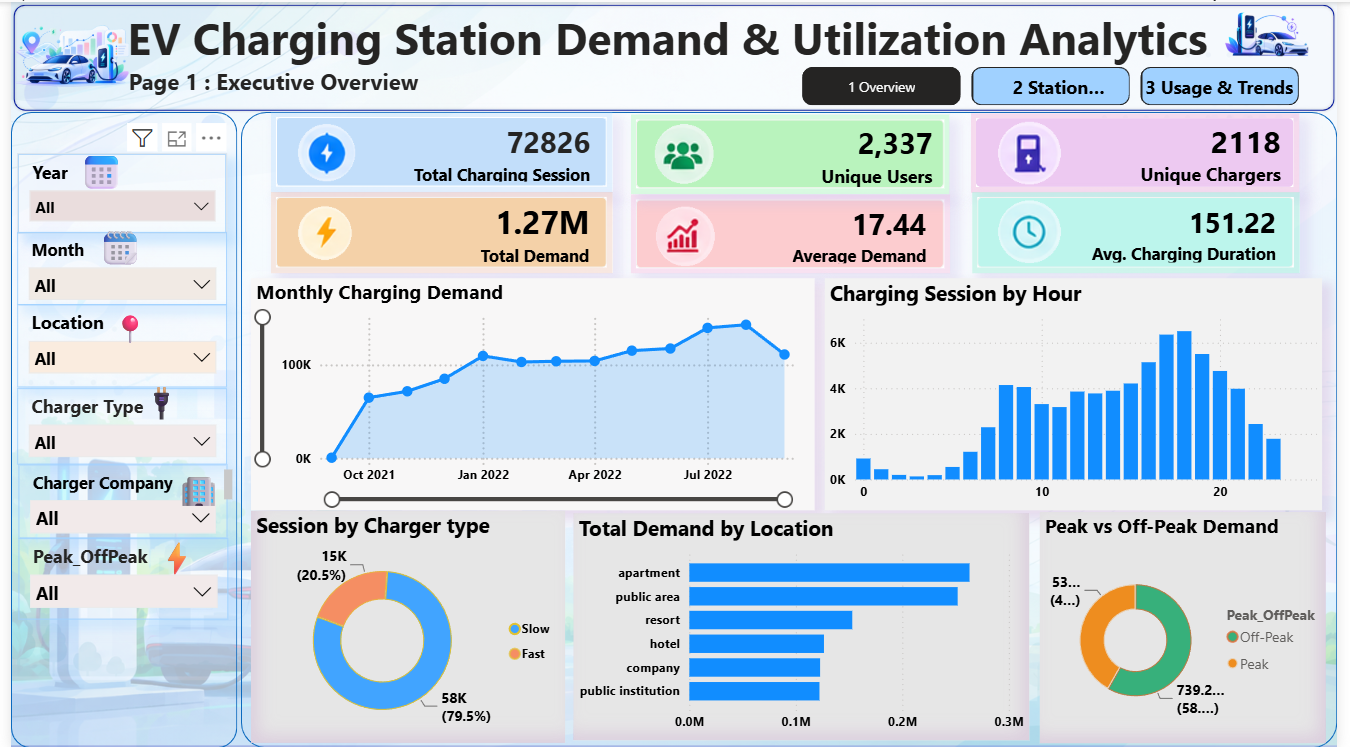

What the dashboard file says about the page in this screenshot:
{"tool":"powerbi","page":{"name":"1 Overview","canvas":[1280,720],"ordinal":0},"visuals":[{"type":"image","box":[0,0,1280,720.2],"z":0},{"type":"shape","box":[222,106.2,1058,614.1],"z":1000},{"type":"shape","box":[0,106.2,218.4,614.1],"z":2000},{"type":"shape","box":[0,0,1280,107.5],"z":3000},{"type":"textbox","box":[107,0,1104.6,91.9],"z":4000},{"type":"textbox","box":[108.4,56.3,308.7,50.8],"z":5000},{"type":"cardVisual","fields":{"Data":["EVcharge.Total Session"]},"box":[250.9,106.2,329.4,77.2],"z":6000},{"type":"cardVisual","fields":{"Data":["EVcharge.Unique Chargers"]},"box":[926.2,107,317,76.8],"z":7000},{"type":"cardVisual","fields":{"Data":["EVcharge.Total Demand"]},"box":[250.9,183.4,329.4,78.4],"z":8000},{"type":"cardVisual","fields":{"Data":["EVcharge.Average Demand"]},"box":[598.3,185.2,307.4,76.8],"z":9000},{"type":"cardVisual","fields":{"Data":["EVcharge.Average Duration"]},"box":[927.6,183.9,315.6,78.2],"z":10000},{"type":"cardVisual","fields":{"Data":["EVcharge.Unique Users"]},"box":[598.3,108.4,307.4,76.8],"z":11000},{"type":"lineChart","title":"Monthly Charging Demand","fields":{"Y":["EVcharge.Total Demand"],"Category":["EVcharge.Start_datetime.Variation.Date Hierarchy.Year","EVcharge.Start_datetime.Variation.Date Hierarchy.Month"]},"box":[231.6,266.6,544.1,224.4],"z":12000},{"type":"clusteredColumnChart","title":"Charging Session by Hour","fields":{"Y":["EVcharge.Total Session"],"Category":["EVcharge.Start_Hour"]},"box":[785.4,266.6,480.2,224.4],"z":13000},{"type":"donutChart","title":"Session by Charger type","fields":{"Y":["EVcharge.Total Session"],"Category":["EVcharge.Charger_type_label"]},"box":[231.6,491,302.8,224.4],"z":14000},{"type":"clusteredBarChart","fields":{"Y":["EVcharge.Total Demand"],"Category":["EVcharge.Location"]},"box":[542.9,495.8,440.4,219.6],"z":15000},{"type":"donutChart","title":"Peak vs Off-Peak Demand","fields":{"Category":["EVcharge.Peak_OffPeak"],"Y":["EVcharge.Total Demand"]},"box":[992.9,492.2,276.3,223.2],"z":16000},{"type":"slicer","fields":{"Values":["EVcharge.Year"]},"box":[6.2,146.2,202.5,77.5],"z":17000},{"type":"slicer","fields":{"Values":["EVcharge.Month"]},"box":[6.2,222.5,202.5,70],"z":18000},{"type":"slicer","fields":{"Values":["EVcharge.Location"]},"box":[6.2,292.5,202.5,80],"z":19000},{"type":"slicer","fields":{"Values":["EVcharge.Charger_company_label"]},"box":[7.5,446.2,201.2,71.2],"z":20000},{"type":"slicer","fields":{"Values":["EVcharge.Charger_type_label"]},"box":[6.2,372.5,202.5,73.8],"z":21000},{"type":"slicer","fields":{"Values":["EVcharge.Peak_OffPeak"]},"box":[7.5,517.5,202.5,78.8],"z":22000},{"type":"pageNavigator","box":[763.7,62.7,480.2,37.4],"z":23000},{"type":"textbox","box":[133.9,509.1,39.8,56.7],"z":24000},{"type":"textbox","box":[154.4,446.4,63.9,44.6],"z":25000},{"type":"textbox","box":[118.8,360,55,56.2],"z":26000},{"type":"textbox","box":[91.2,292.5,42.5,50],"z":27000},{"type":"textbox","box":[78.8,210,55,56.2],"z":28000},{"type":"textbox","box":[60,136.2,63.8,58.8],"z":29000},{"type":"image","box":[1157,0,112.2,62.7],"z":30000},{"type":"image","box":[270.2,115.8,68.8,59.1],"z":31000},{"type":"image","box":[615.3,115.8,68.8,61.5],"z":32000},{"type":"image","box":[941,113.4,84.5,65.1],"z":33000},{"type":"image","box":[266.6,195.4,72.4,55.5],"z":34000},{"type":"image","box":[616.5,195.4,68.8,61.5],"z":35000},{"type":"image","box":[950.7,187,65.1,70],"z":36000},{"type":"image","box":[0,9.7,118.2,82],"z":37000}]}

Visuals, with their boxes in screenshot pixels (x1, y1, x2, y2), scaled from the page's 1280x720 canvas onto the 1350x747 screenshot:
image: 0:0:1349:746
shape: 234:110:1349:746
shape: 0:110:230:746
shape: 0:0:1349:112
textbox: 113:0:1278:95
textbox: 114:58:440:111
cardVisual - EVcharge.Total Session: 265:110:612:190
cardVisual - EVcharge.Unique Chargers: 977:111:1311:191
cardVisual - EVcharge.Total Demand: 265:190:612:272
cardVisual - EVcharge.Average Demand: 631:192:955:272
cardVisual - EVcharge.Average Duration: 978:191:1311:272
cardVisual - EVcharge.Unique Users: 631:112:955:192
"Monthly Charging Demand" lineChart: 244:277:818:509
"Charging Session by Hour" clusteredColumnChart: 828:277:1335:509
"Session by Charger type" donutChart: 244:509:564:742
clusteredBarChart - EVcharge.Total Demand x EVcharge.Location: 573:514:1037:742
"Peak vs Off-Peak Demand" donutChart: 1047:511:1339:742
slicer - EVcharge.Year: 7:152:220:232
slicer - EVcharge.Month: 7:231:220:303
slicer - EVcharge.Location: 7:303:220:386
slicer - EVcharge.Charger_company_label: 8:463:220:537
slicer - EVcharge.Charger_type_label: 7:386:220:463
slicer - EVcharge.Peak_OffPeak: 8:537:221:619
pageNavigator: 805:65:1312:104
textbox: 141:528:183:587
textbox: 163:463:230:509
textbox: 125:374:183:432
textbox: 96:303:141:355
textbox: 83:218:141:276
textbox: 63:141:131:202
image: 1220:0:1339:65
image: 285:120:358:181
image: 649:120:722:184
image: 992:118:1082:185
image: 281:203:358:260
image: 650:203:723:267
image: 1003:194:1071:267
image: 0:10:125:95
